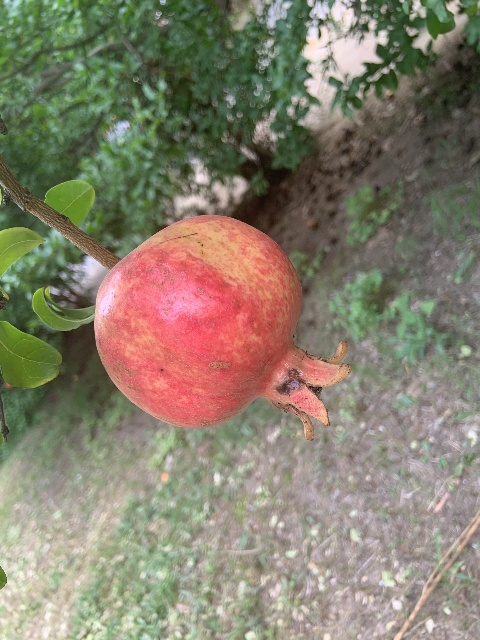ripe: (95, 215, 352, 439)
